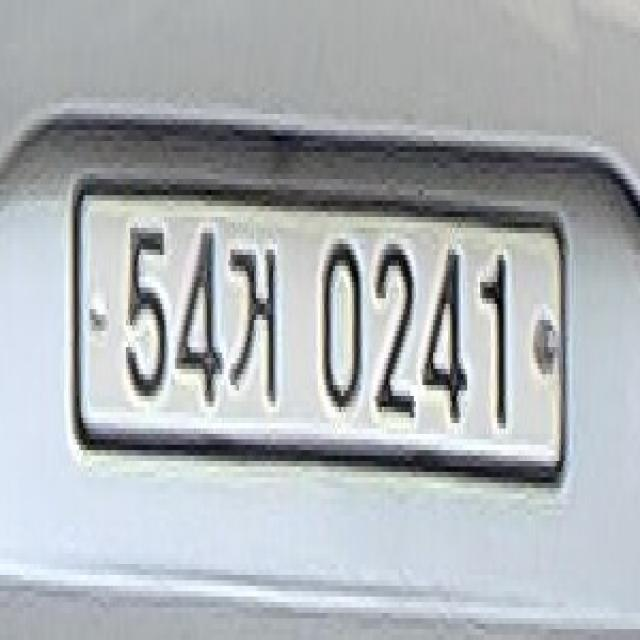0: (309, 228, 369, 418)
1: (472, 217, 520, 439)
2: (367, 228, 422, 434)
4: (418, 228, 474, 434), (173, 217, 222, 412)
5: (124, 190, 173, 407)
geo: (222, 222, 277, 412)
license_plate: (58, 173, 568, 504)
